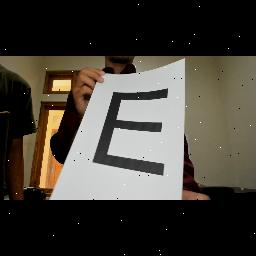e: (90, 88, 172, 180)
